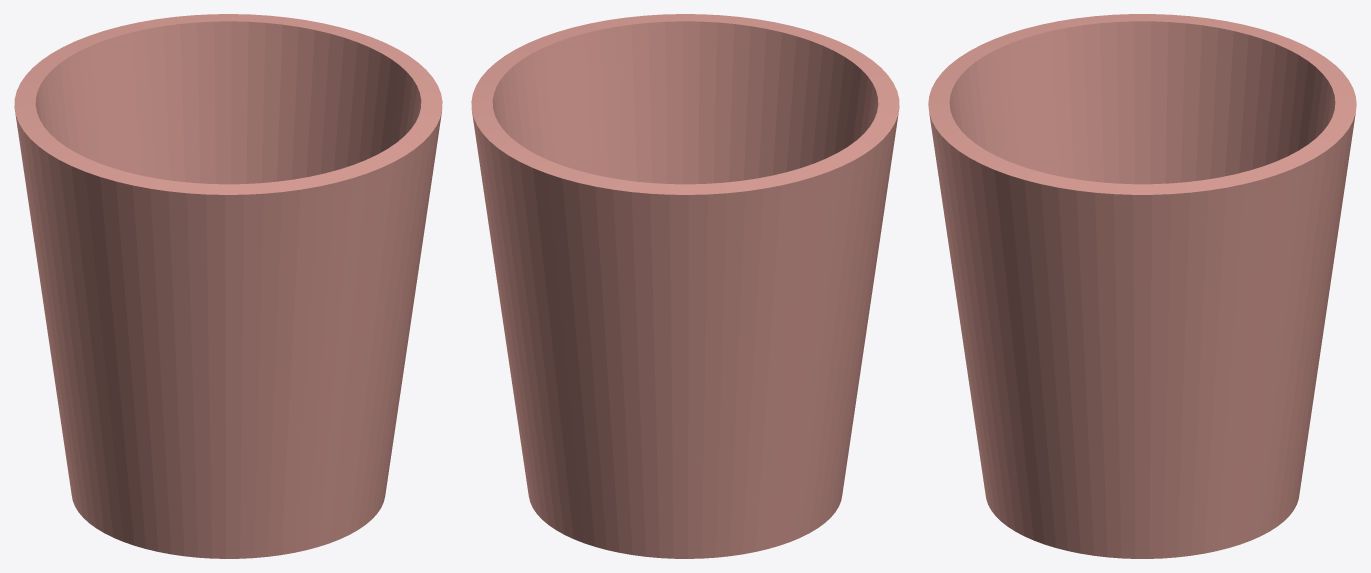
Rendered from cestino.fbx.
The picture shows the model from 3 angles, left to right: view 1: azimuth 30°, elevation 25°; view 2: azimuth 150°, elevation 25°; view 3: azimuth 270°, elevation 25°; orthographic projection.
Parts seen in each view (by area): view 1: cestino; view 2: cestino; view 3: cestino.
Boxes of the visible parts, <box> form: cestino: <box>14,14,442,558</box>; cestino: <box>471,14,899,558</box>; cestino: <box>928,14,1356,558</box>.
Size of the model in its own units: 19.98 by 20.08 by 20.
